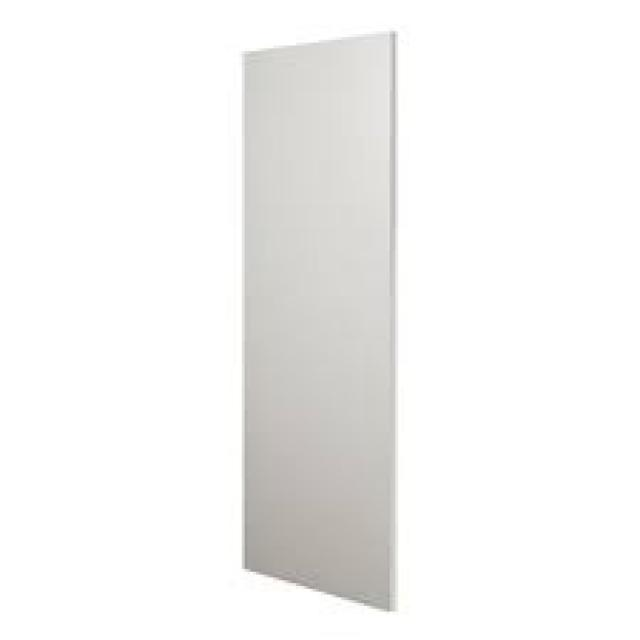door: (240, 29, 397, 612)
